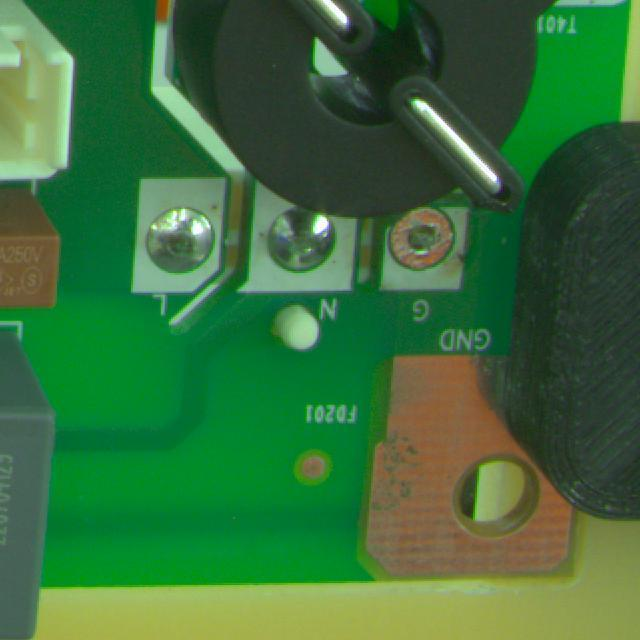Insufficient solder: (382, 201, 458, 277)
